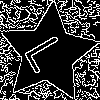L: (23, 28, 76, 75)
